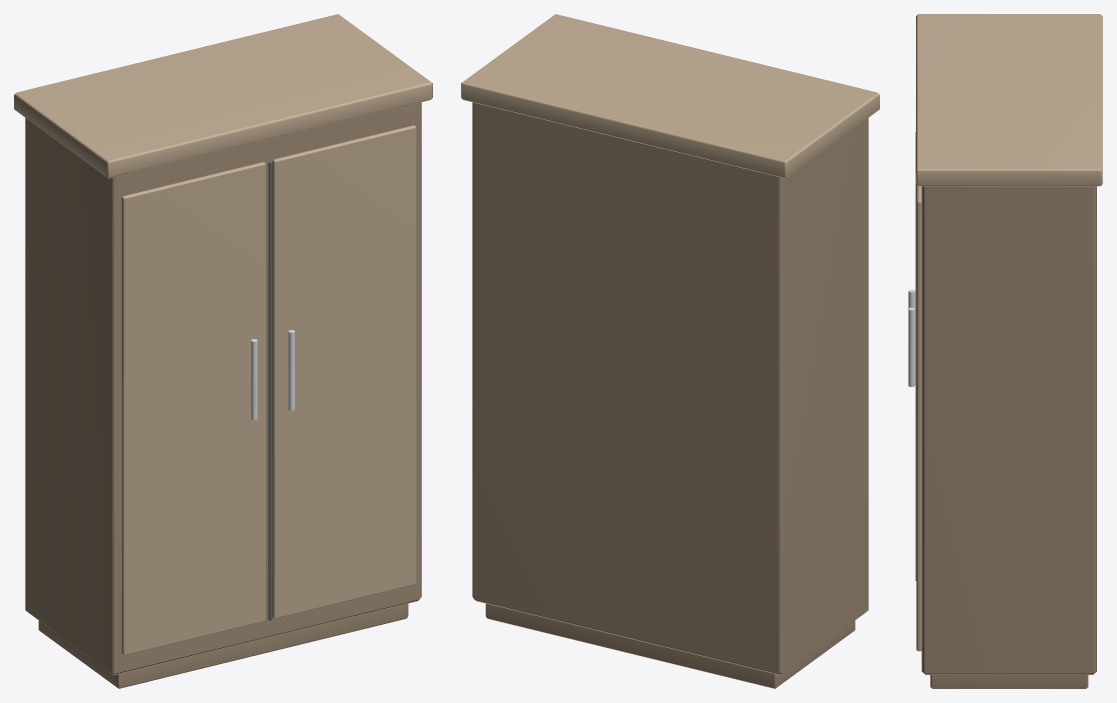
Rendered from wardrobe.glb.
3 views of the same model, side by side, from view 1: azimuth 30°, elevation 25°; view 2: azimuth 150°, elevation 25°; view 3: azimuth 270°, elevation 25° (orthographic).
Parts seen in each view (by area): view 1: furn_wardrobe; view 2: furn_wardrobe; view 3: furn_wardrobe.
Boxes of the visible parts, <box> form: furn_wardrobe: <box>14,14,432,688</box>; furn_wardrobe: <box>461,14,879,688</box>; furn_wardrobe: <box>908,14,1102,688</box>.
Bounding box in the file's own units: 1.31 × 2.07 × 0.687.
